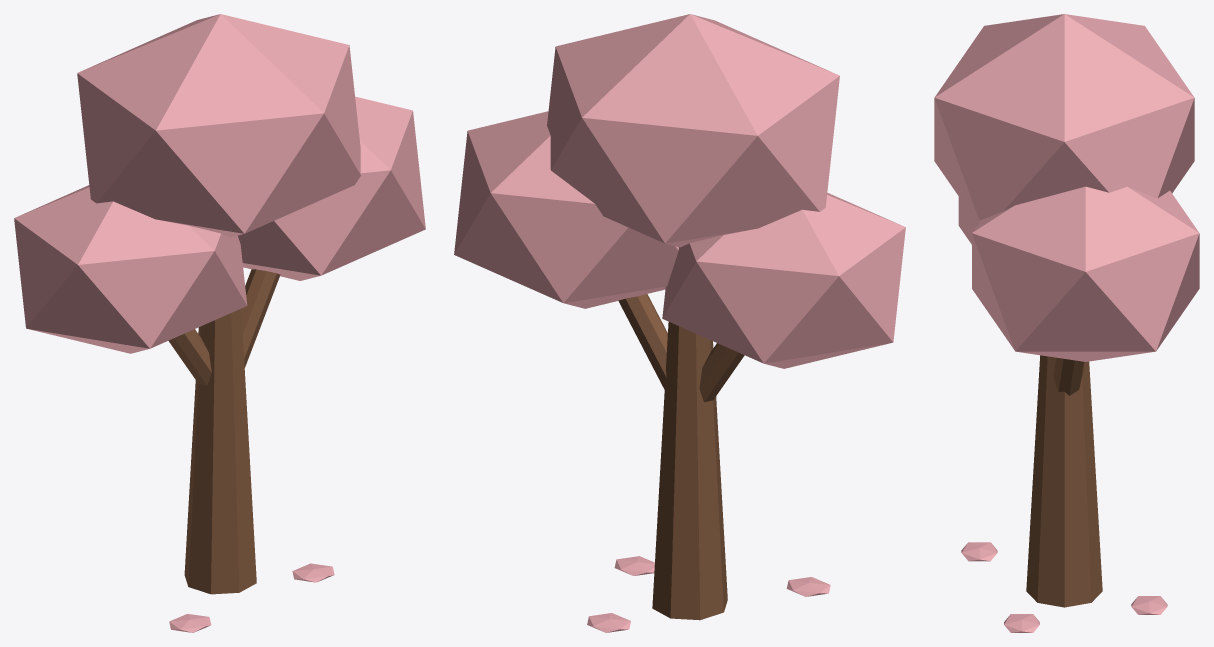
The model's file is tree_c.glb.
The picture shows the model from 3 angles, left to right: view 1: azimuth 30°, elevation 25°; view 2: azimuth 150°, elevation 25°; view 3: azimuth 270°, elevation 25°; orthographic projection. The views are drawn at different scales.
Visible parts, largest first — view 1: blossoms.002, blossoms, blossoms.001, trunk, branch.001, branch, fallen_petals.001, fallen_petals; view 2: blossoms.002, blossoms, blossoms.001, trunk, branch.001, branch, fallen_petals.002, fallen_petals, fallen_petals.001; view 3: blossoms.002, blossoms.001, trunk, branch.001, fallen_petals, fallen_petals.001, fallen_petals.002, blossoms.
Boxes of the visible parts, <box> form: blossoms.002: <box>77,14,360,237</box>; blossoms: <box>14,185,247,353</box>; blossoms.001: <box>238,96,425,280</box>; trunk: <box>184,309,256,594</box>; branch.001: <box>241,269,280,367</box>; branch: <box>168,329,211,385</box>; fallen_petals.001: <box>292,563,334,582</box>; fallen_petals: <box>169,614,211,632</box>; blossoms.002: <box>547,14,839,247</box>; blossoms: <box>662,192,905,368</box>; blossoms.001: <box>454,111,678,308</box>; trunk: <box>652,322,727,620</box>; branch.001: <box>618,294,667,389</box>; branch: <box>699,343,744,402</box>; fallen_petals.002: <box>587,613,630,632</box>; fallen_petals: <box>786,577,830,596</box>; fallen_petals.001: <box>614,556,654,575</box>; blossoms.002: <box>934,14,1194,223</box>; blossoms.001: <box>972,186,1199,361</box>; trunk: <box>1026,355,1102,607</box>; branch.001: <box>1053,357,1084,395</box>; fallen_petals: <box>961,542,997,561</box>; fallen_petals.001: <box>1004,614,1039,632</box>; fallen_petals.002: <box>1131,596,1167,614</box>; blossoms: <box>958,197,977,244</box>.
Bounding box in the file's own units: 2.21 × 3 × 1.25.
